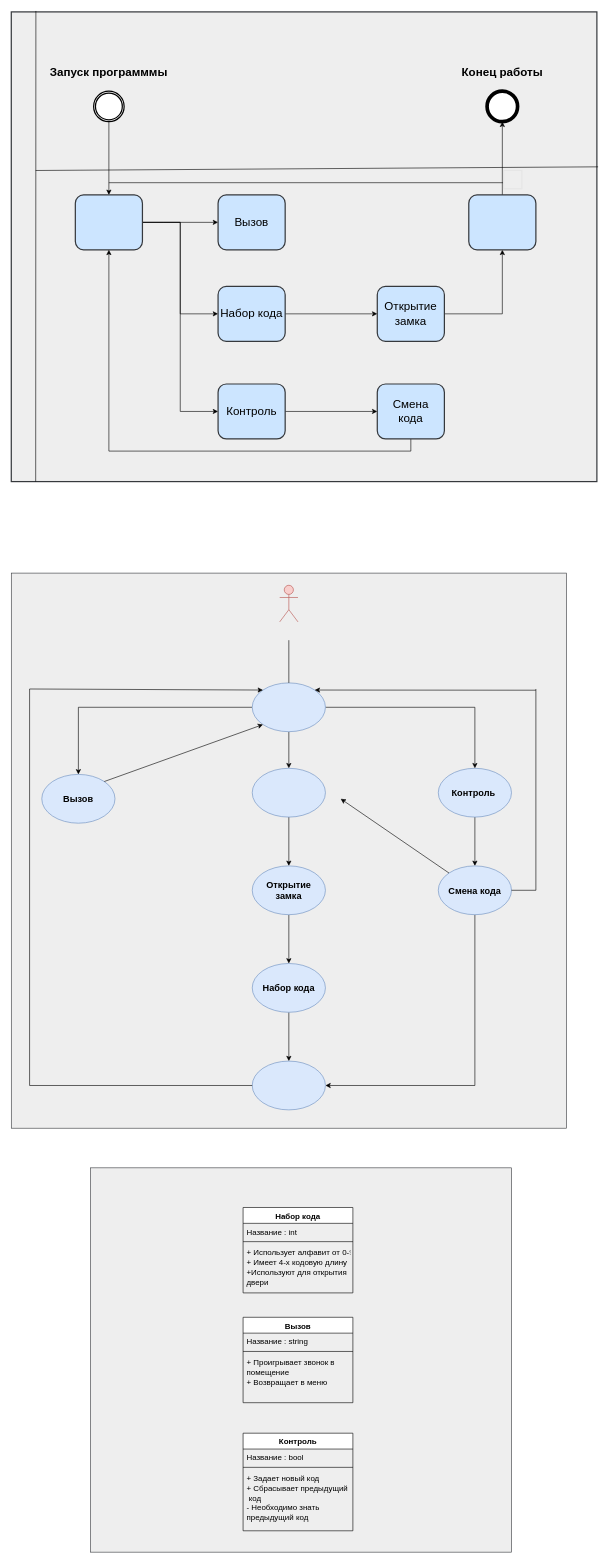
This 609x1563 diagram has some shape labels left out. The shapes that lost their labels are listed below. From the top down, each one's box as (x1, y1, x2, y2) in pixels, then its label:
(74, 194, 143, 250): Выбор действия
(468, 194, 536, 250): Очищение и закрытие замка
(279, 585, 298, 622): Пользователь
(252, 682, 325, 732): Запуск программы
(252, 768, 325, 817): Меню
(252, 1060, 325, 1110): Сброс и закрытие замка
